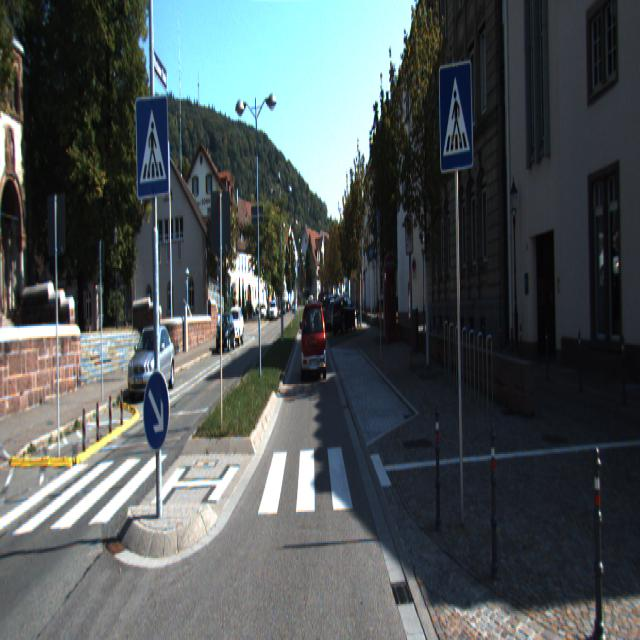Car: (128, 325, 176, 399), (302, 303, 327, 383), (332, 296, 359, 335), (326, 299, 352, 332), (216, 314, 236, 353), (226, 309, 244, 348)
